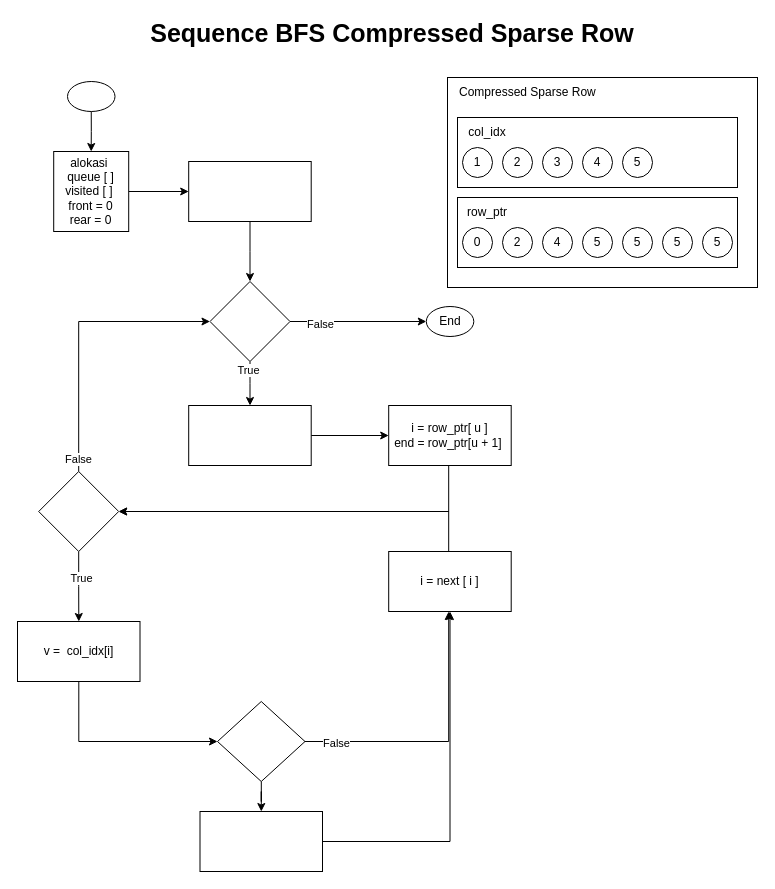
The diagram is 775 pixels wide and 889 high, and some of its shapes have lost their labels. Here are the shapes that lost their labels. From the top down, the centre of each, then its label:
At (249,191): "visited[start] = 1 queue[rear++] = start".
At (249,321): "front < rear".
At (249,435): "u = queue[ front++ ]".
At (78,511): "i < end".
At (260,741): "visited[ v ] = 0".
At (260,841): "visited[ v ] = 1 queue[ rear++ ] = v".
